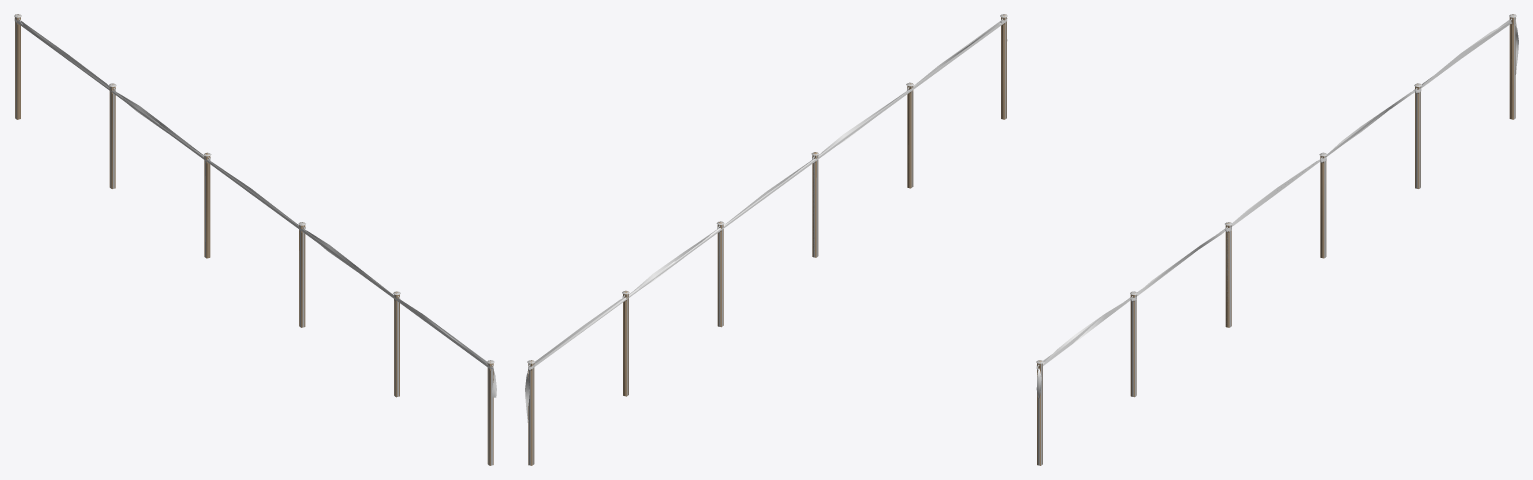
The model's file is ut_race_caution_tape_barricade_b.DAE.
The picture shows the model from 3 angles, left to right: view 1: azimuth 30°, elevation 25°; view 2: azimuth 150°, elevation 25°; view 3: azimuth 330°, elevation 25°; orthographic projection.
Parts seen in each view (by area): view 1: caution_tape_barricade_b_a_c400, caution_tape_barricade_b_a_c2000, caution_tape_barricade_b_a_c100, caution_tape_barricade_b_a_c1000; view 2: caution_tape_barricade_b_a_c400, caution_tape_barricade_b_a_c2000, caution_tape_barricade_b_a_c100, caution_tape_barricade_b_a_c1000; view 3: caution_tape_barricade_b_a_c400, caution_tape_barricade_b_a_c2000, caution_tape_barricade_b_a_c1000.
Part boxes in pixels (x1,y1,x2,y2): caution_tape_barricade_b_a_c400: (14, 14, 493, 465); caution_tape_barricade_b_a_c2000: (14, 14, 496, 465); caution_tape_barricade_b_a_c100: (17, 20, 489, 368); caution_tape_barricade_b_a_c1000: (16, 20, 496, 389); caution_tape_barricade_b_a_c400: (528, 14, 1006, 465); caution_tape_barricade_b_a_c2000: (525, 14, 1007, 465); caution_tape_barricade_b_a_c100: (534, 19, 1007, 366); caution_tape_barricade_b_a_c1000: (525, 20, 1007, 420); caution_tape_barricade_b_a_c400: (1037, 14, 1517, 465); caution_tape_barricade_b_a_c2000: (1036, 14, 1518, 465); caution_tape_barricade_b_a_c1000: (1039, 21, 1518, 390).
Size of the model in its own units: 0.084 by 10.11 by 1.2.
